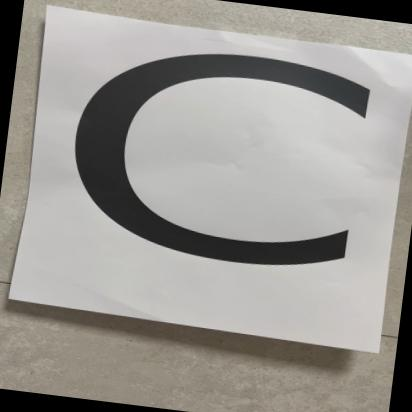seat: (22, 9, 384, 325)
